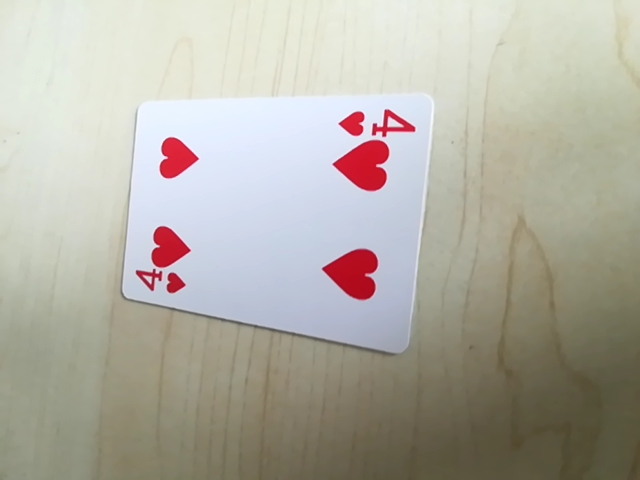hx 4: (335, 99, 418, 141), (128, 265, 191, 298)
